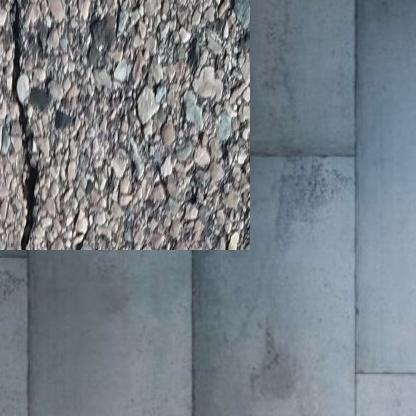Cracks: (2, 0, 39, 231), (66, 214, 83, 231)
